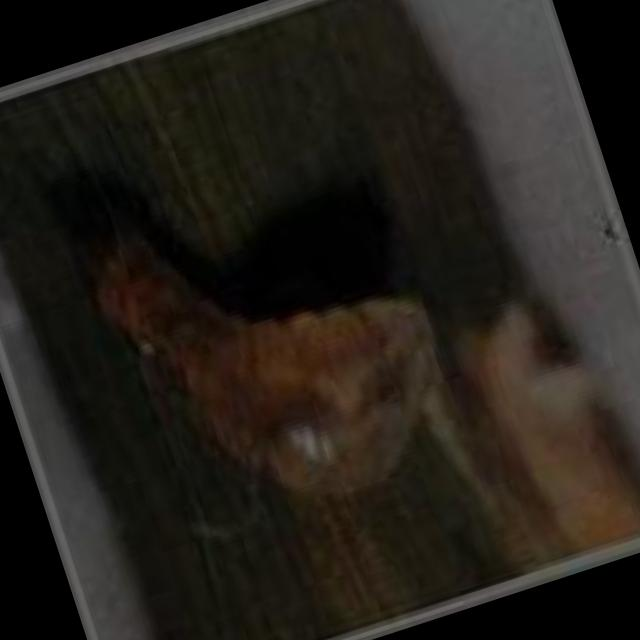whorl-maggot: (96, 232, 436, 498)
